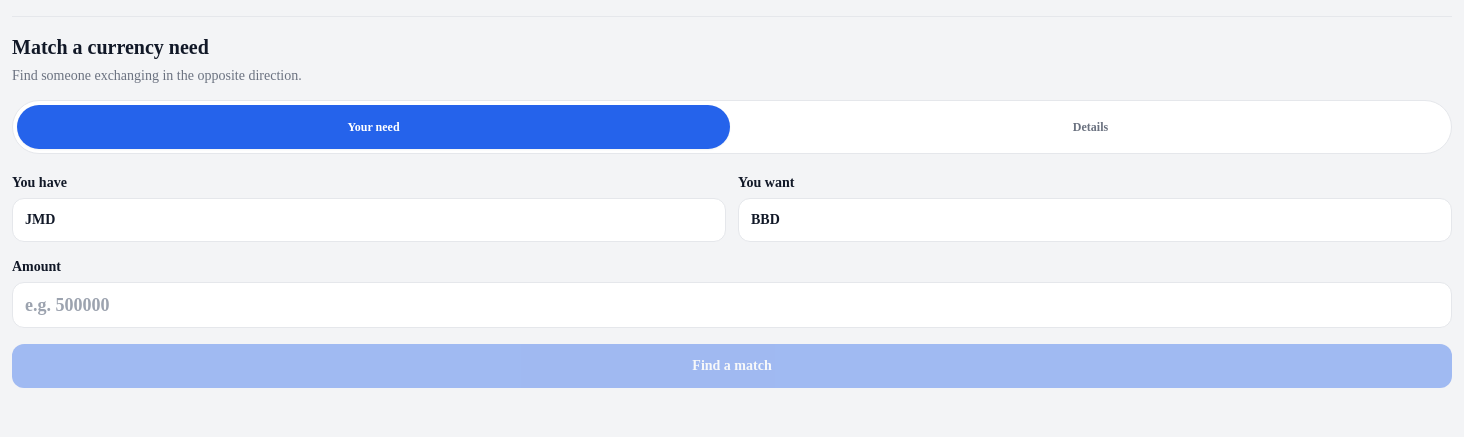
Test: FxNettingRail — need/details morph › Details replaces the intent form and preserves the amount on return
Type "750" into the number field named "Amount to convert" at (732, 305), box [12,282,1452,328]
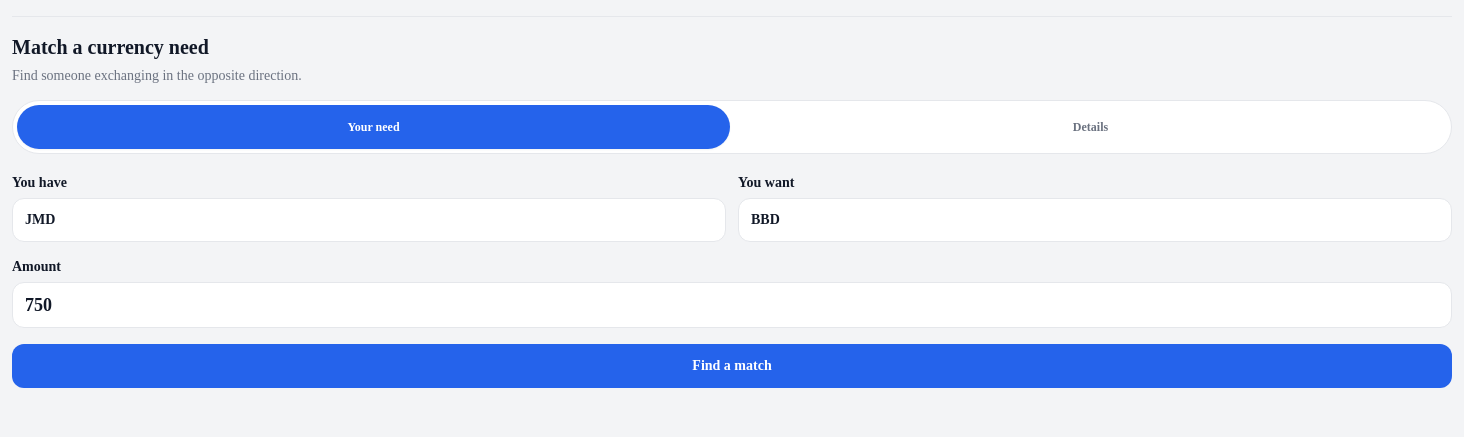
Click the button "Details" at (1090, 127), box [734,105,1447,149]
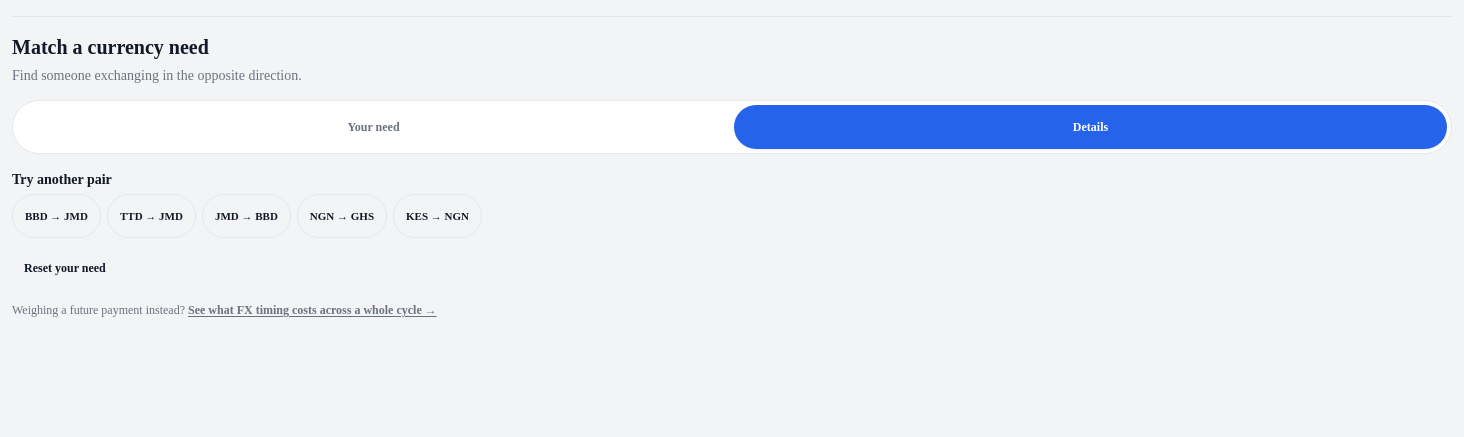
Expected: the text "Try another pair" is shown, [12,172,112,187]
Click the button "Your need" at (374, 127), box [17,105,730,149]
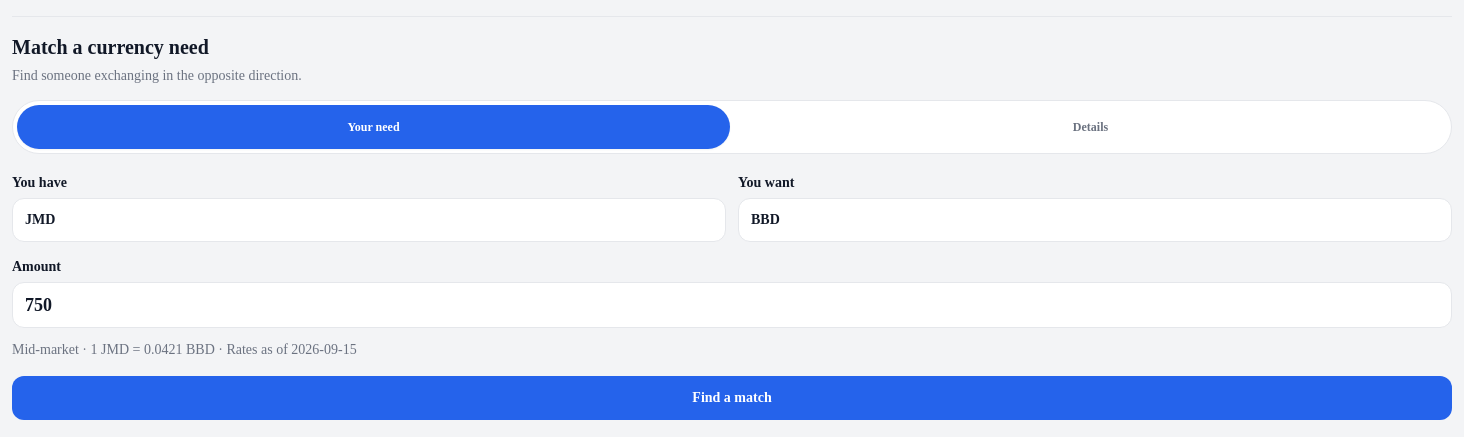
Expected: the number field named "Amount to convert" holds "750", [12,282,1452,328]
